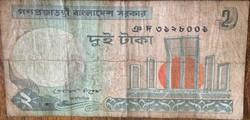2 taka: (1, 1, 245, 120)
